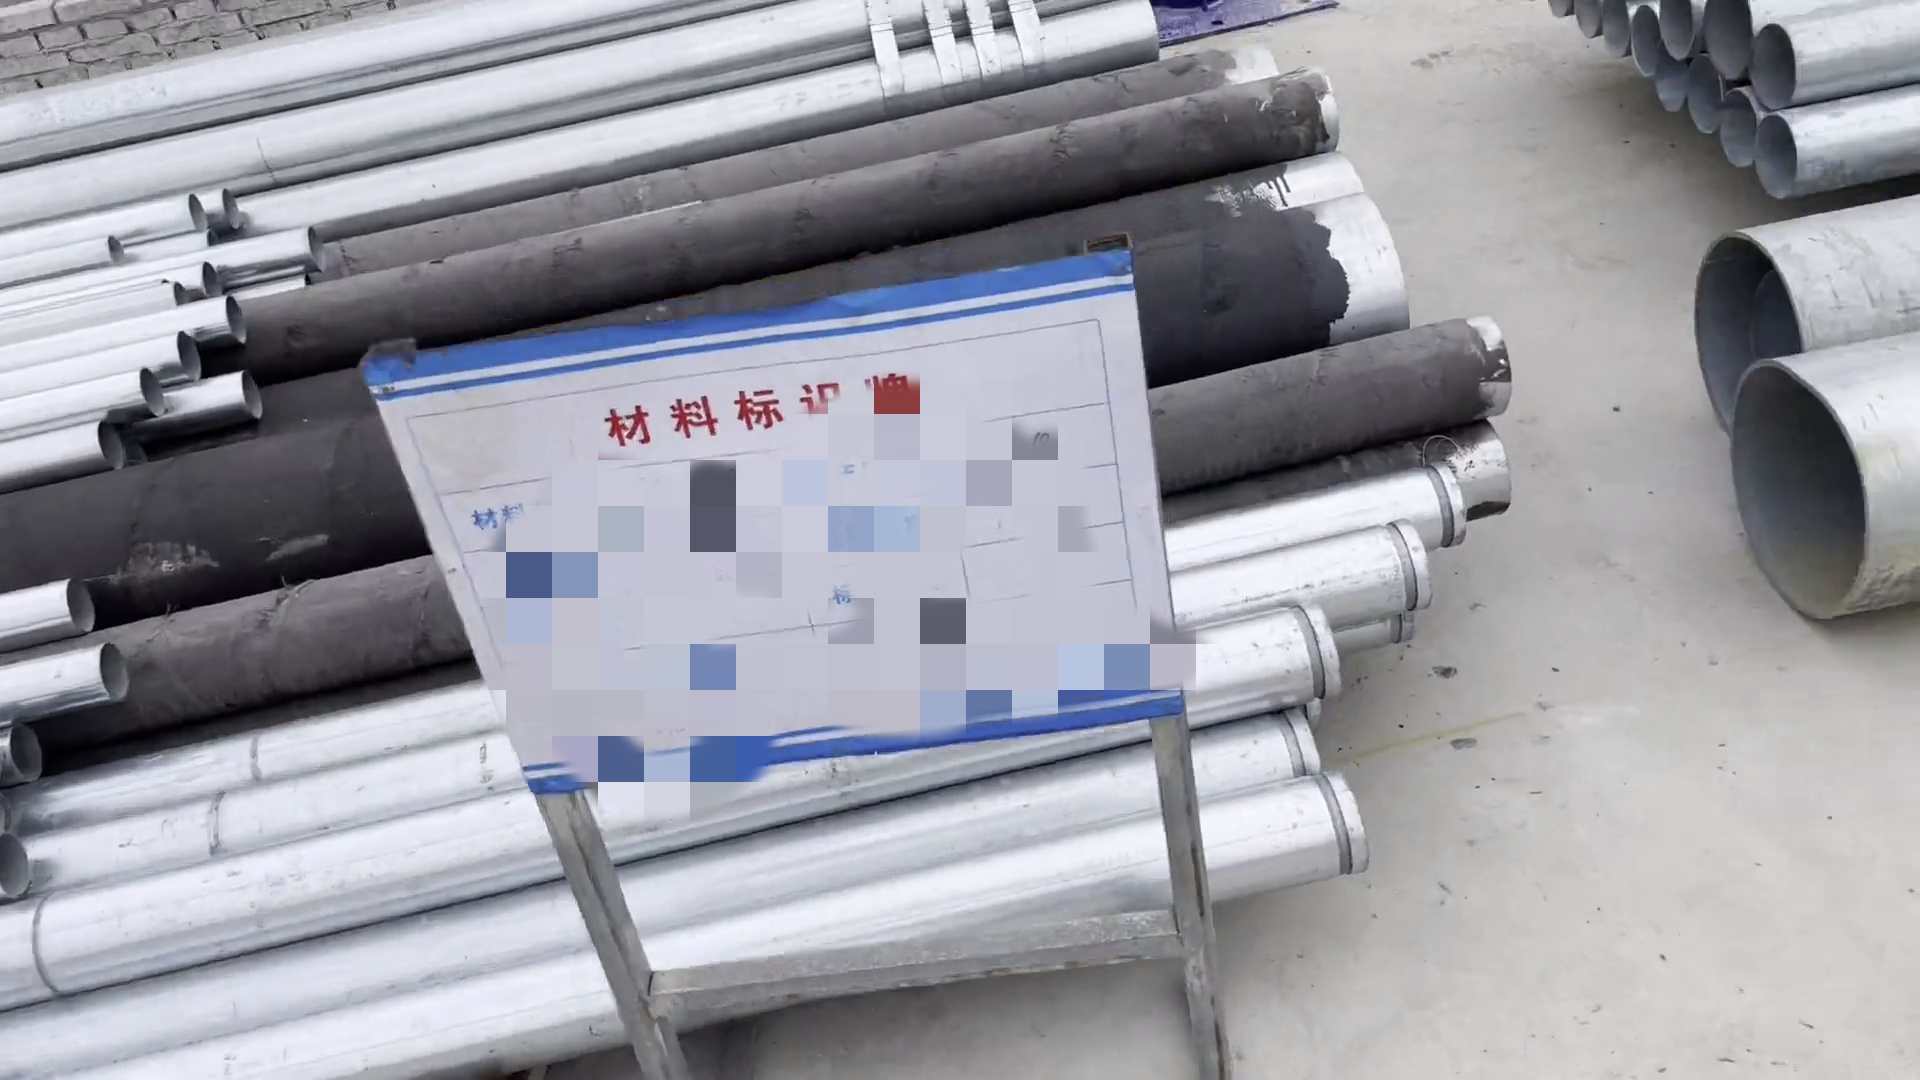brick: (1, 1, 394, 95)
slogan: (342, 218, 1230, 819)
